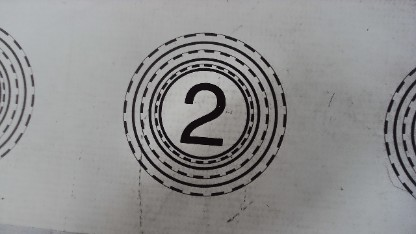2r: (118, 32, 288, 198)
